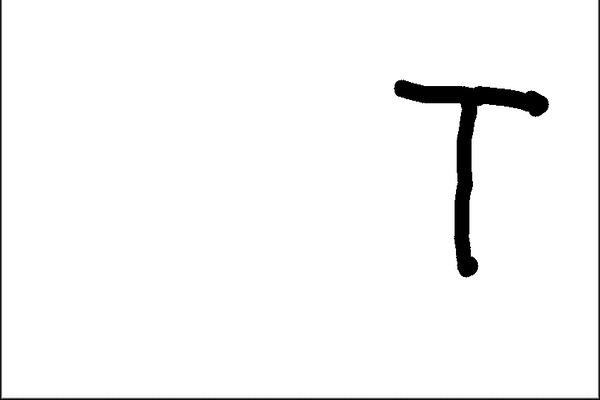T: (384, 73, 552, 289)
